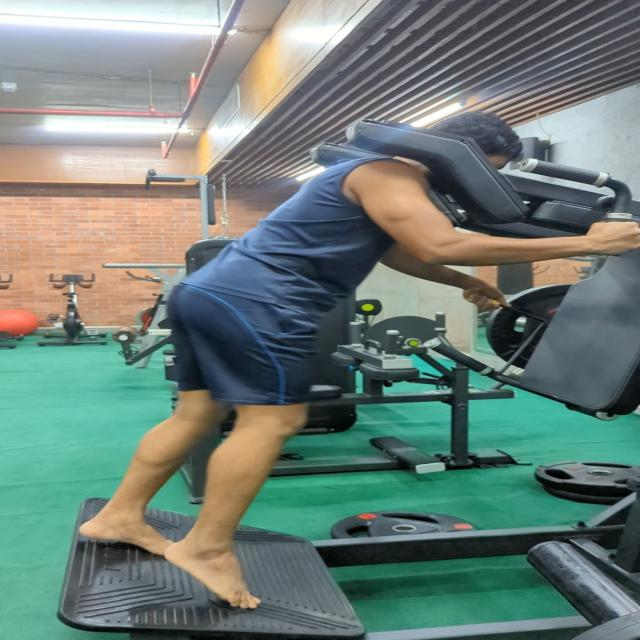Normal_SquatsWithBarbell: (7, 101, 640, 640)
